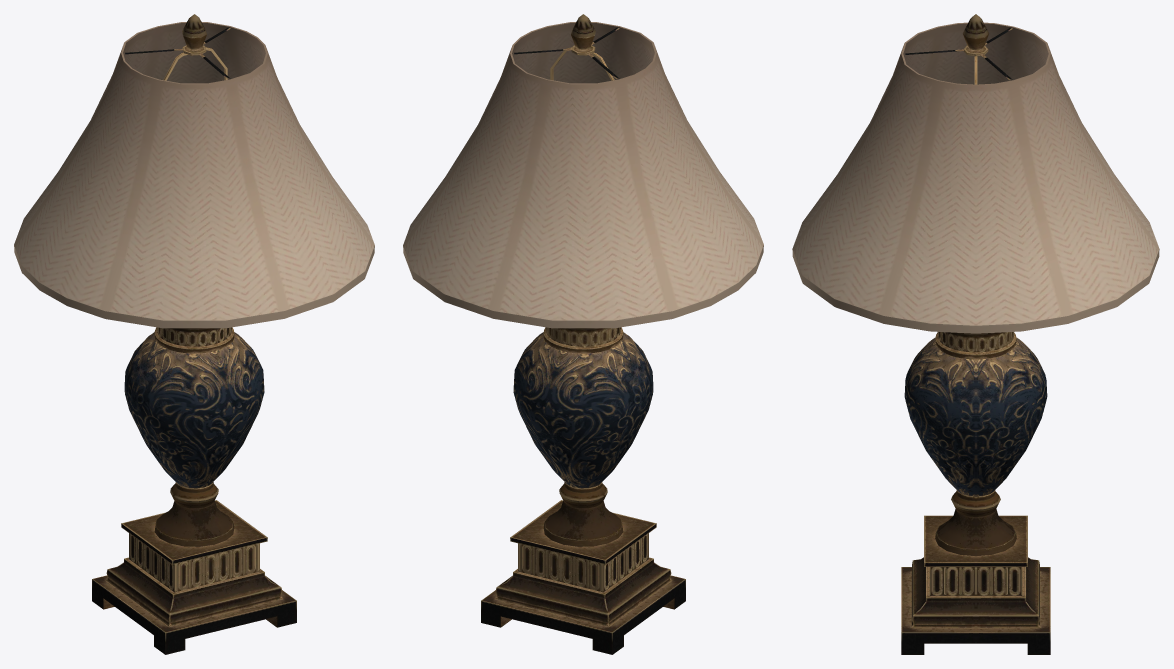
File: lamp.glb
3 renders of one model, left to right at view 1: azimuth 30°, elevation 25°; view 2: azimuth 150°, elevation 25°; view 3: azimuth 270°, elevation 25°, orthographic.
Visible parts, largest first — view 1: lampscrew_low.001_lamp01_0; view 2: lampscrew_low.001_lamp01_0; view 3: lampscrew_low.001_lamp01_0.
Part boxes in pixels (left/top/right/bottom): lampscrew_low.001_lamp01_0: left=14, top=14, right=374, bottom=654; lampscrew_low.001_lamp01_0: left=403, top=14, right=763, bottom=654; lampscrew_low.001_lamp01_0: left=792, top=14, right=1159, bottom=654.
Size of the model in its own units: 0.4716 by 0.8699 by 0.4758.
Materials: 1 (1 with a texture image).
